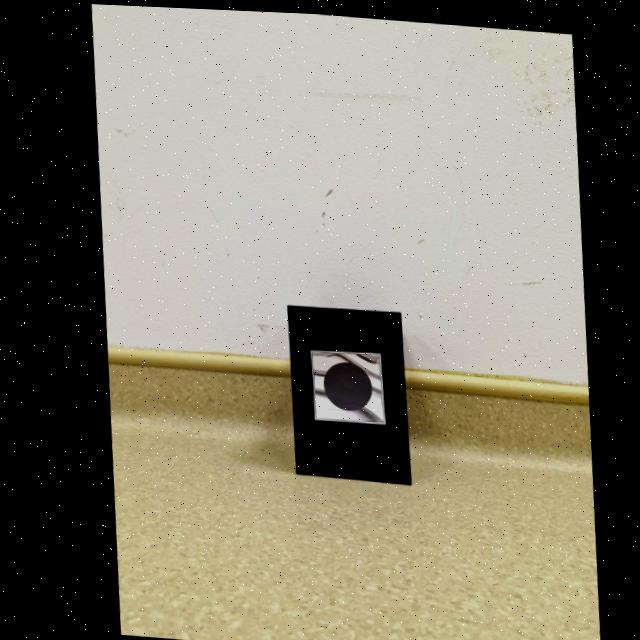CIRCLE: (317, 358, 364, 407)
